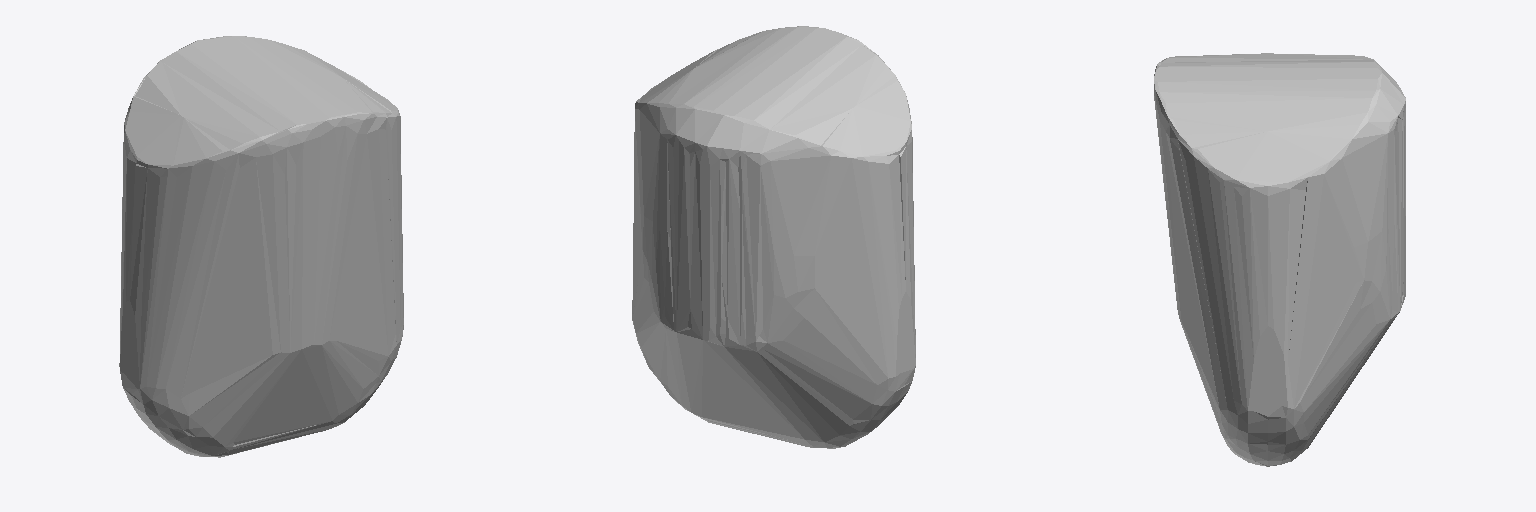
Rendered from arm_5_collision.obj.
3 views of the same model, side by side, from view 1: azimuth 30°, elevation 25°; view 2: azimuth 150°, elevation 25°; view 3: azimuth 270°, elevation 25° (orthographic).
Bounding box in the file's own units: 0.152 × 0.198 × 0.126.